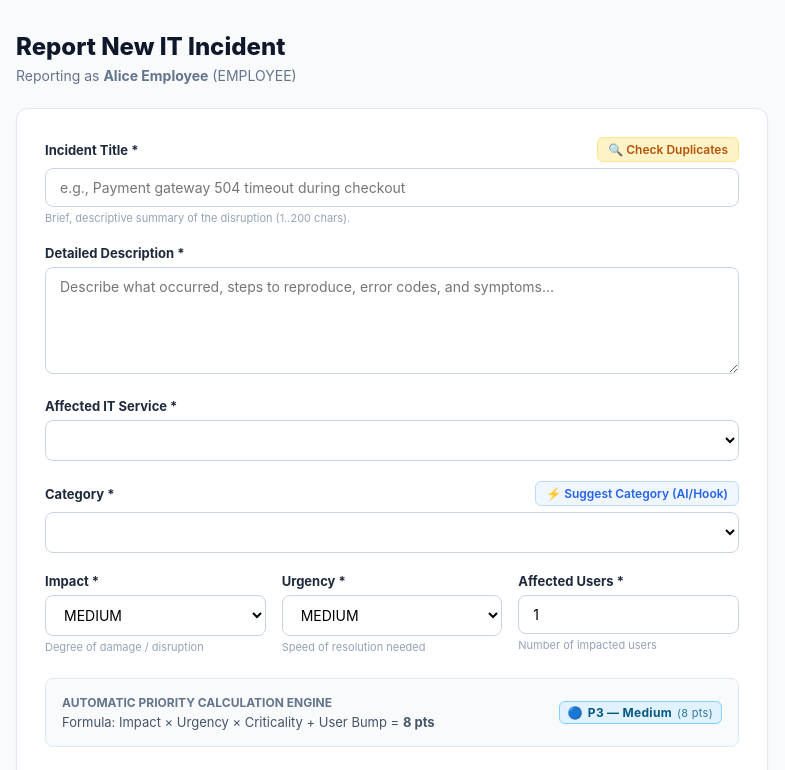
it: Duplicate Detection (Gate B7) › allows dismissing advisory banner without blocking submission
Type "Network latency issues" into the field with placeholder "e.g., Payment gateway 504 timeout during checkout" at {"x": 392, "y": 188}, box [45, 168, 739, 207]
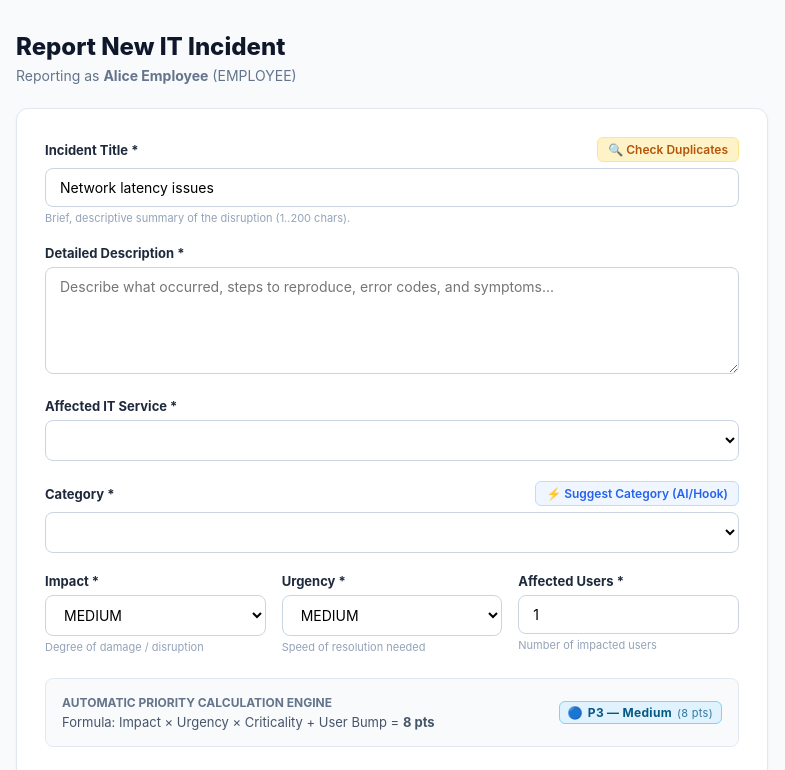
Click the button "🔍 Check Duplicates" at {"x": 668, "y": 150}, box [597, 137, 739, 162]
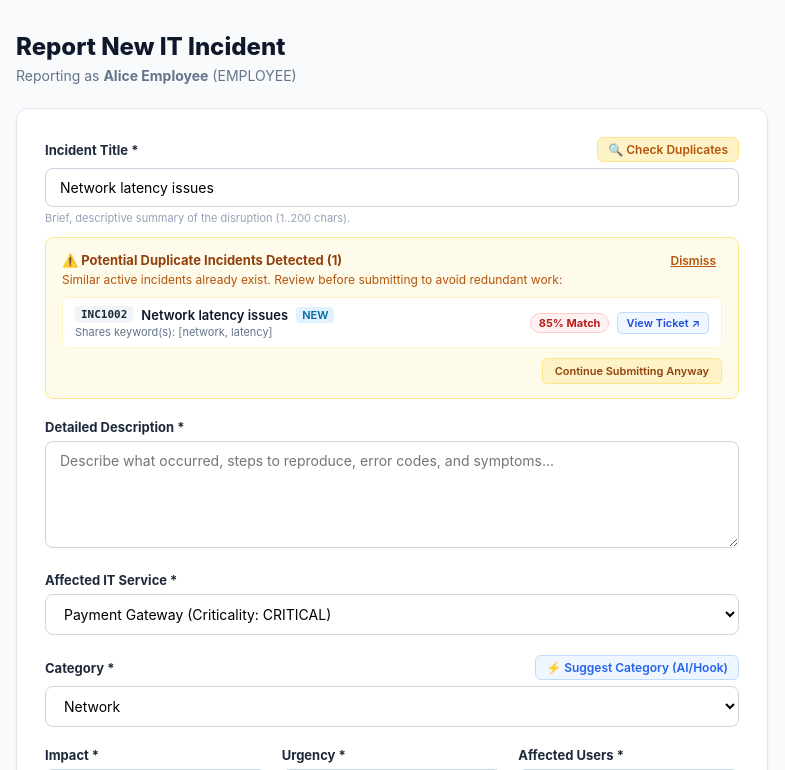
Expected: the element with test id "duplicate-advisory-banner" is shown, [45, 237, 739, 399]
Note: Click Dismiss
Click the button "Dismiss" at {"x": 693, "y": 260}, box [664, 252, 722, 269]
(page scrolled)
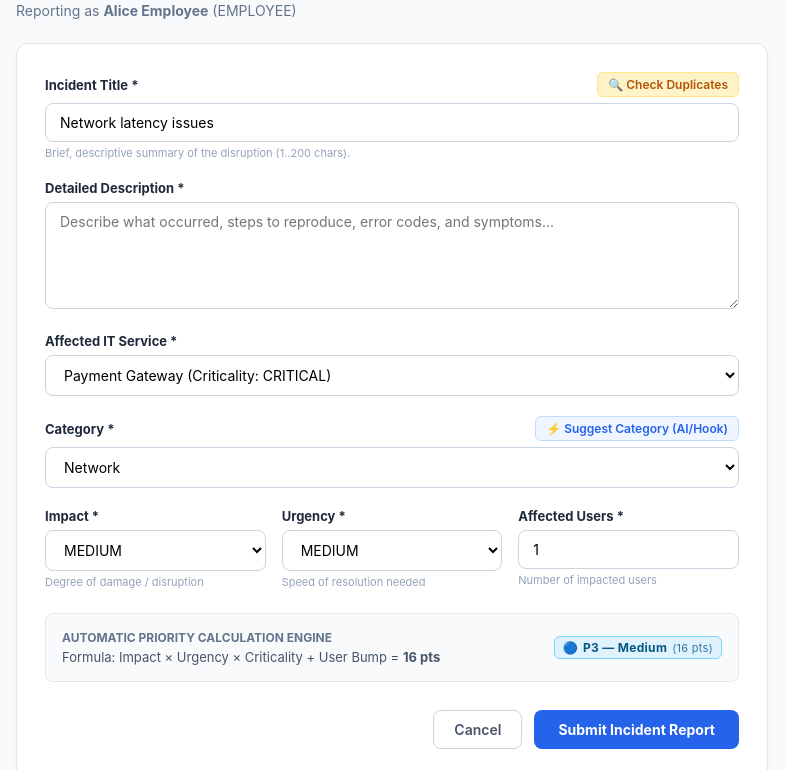
Expected: the button "Submit Incident Report" is enabled, [534, 710, 739, 749]
Expected: the element with test id "duplicate-advisory-banner" is gone
